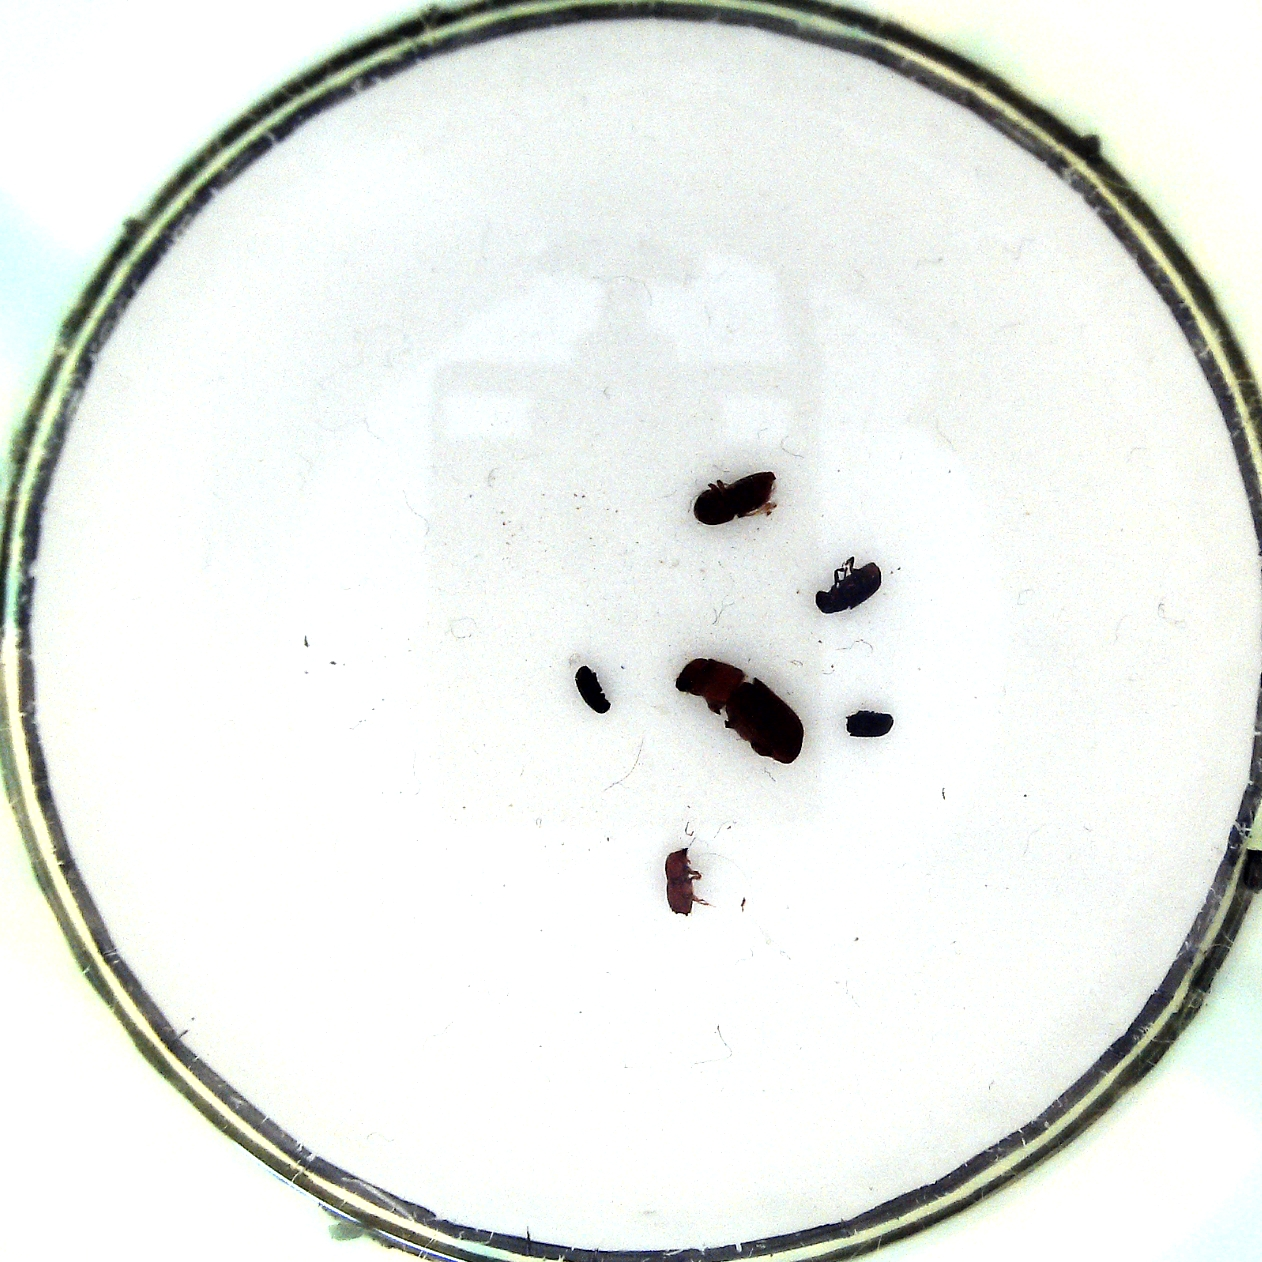Leconte: (668, 658, 806, 765)
Linnaeus: (686, 472, 787, 529)
acuminatus: (656, 845, 715, 929)
armandi: (814, 549, 883, 617)
coleoptera: (569, 660, 613, 717), (842, 703, 901, 742)
